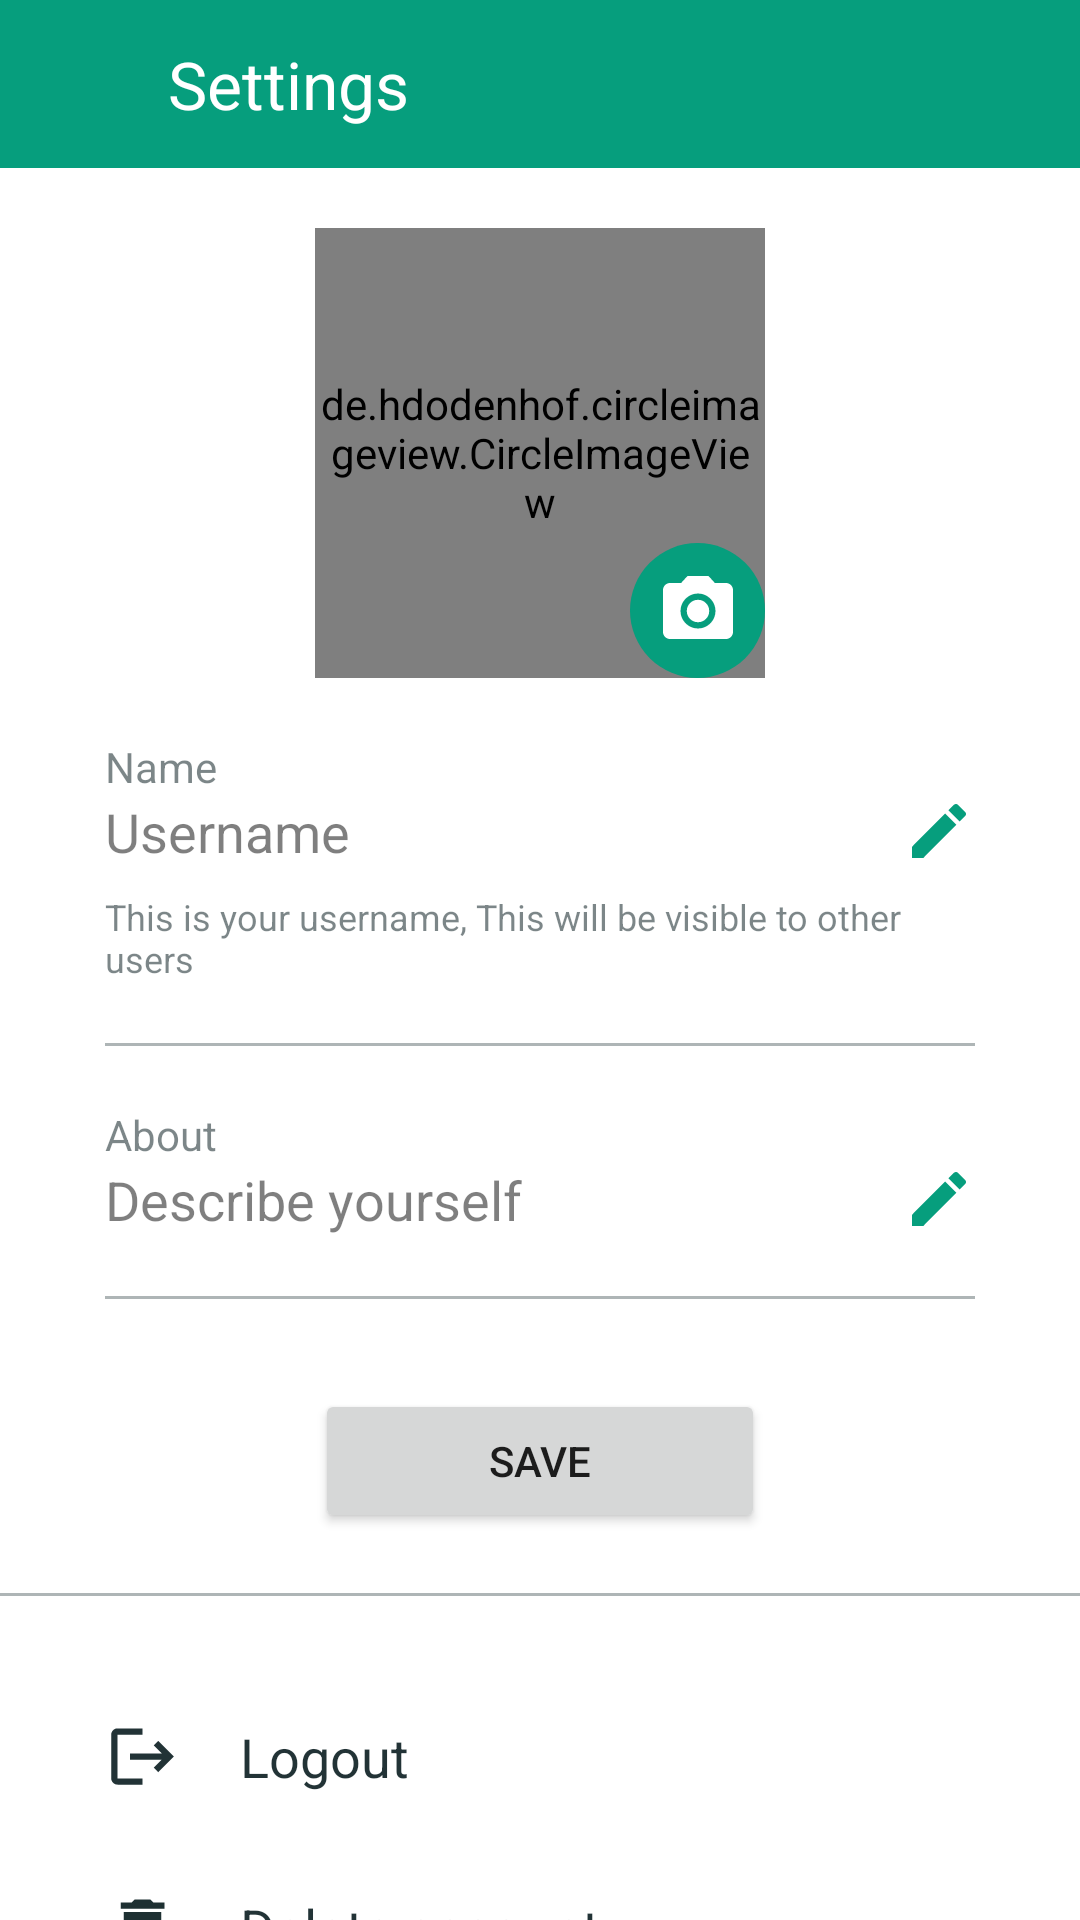

Screen size 1080*1920. Icon name, then its center in pixels as point (x, y):
chat camera: point (697, 610)
